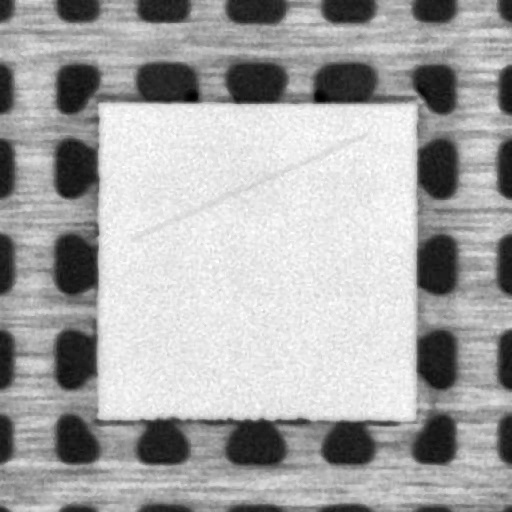DIE_CRACK: (132, 133, 366, 237)
